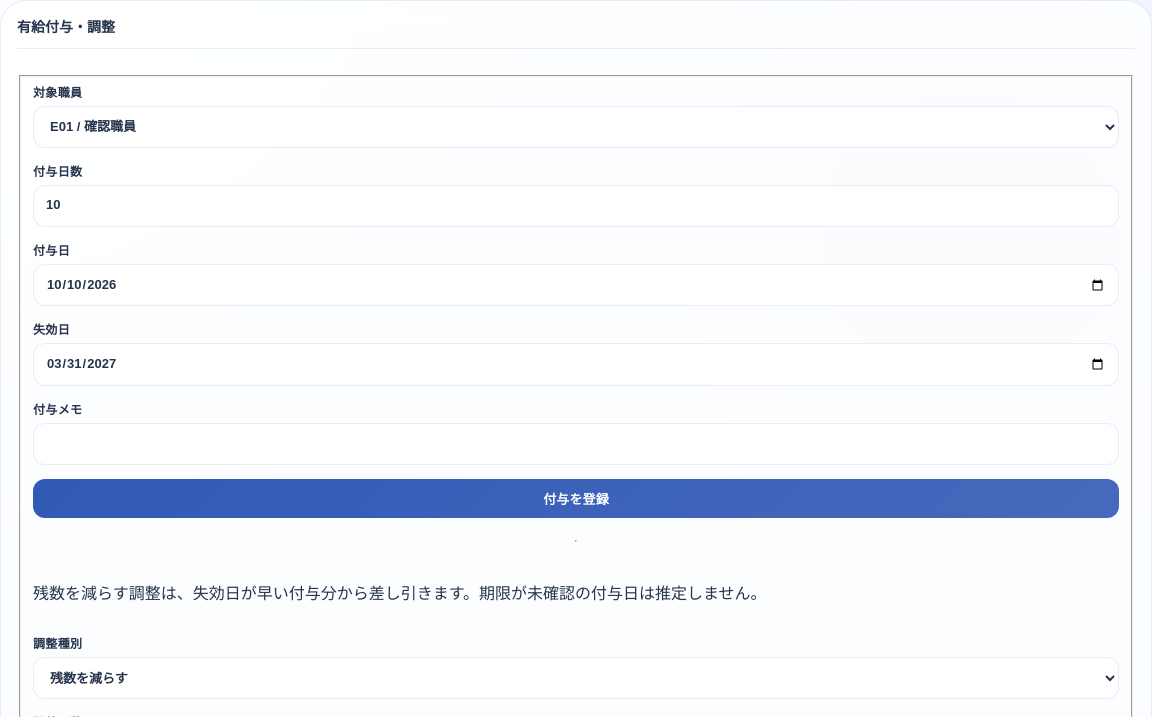
Test case: admin leave forms › confirms the employee and amount before granting and places returned field errors beside inputs
Click the button "付与を登録". click: (576, 499)
box: [33, 479, 1119, 518]
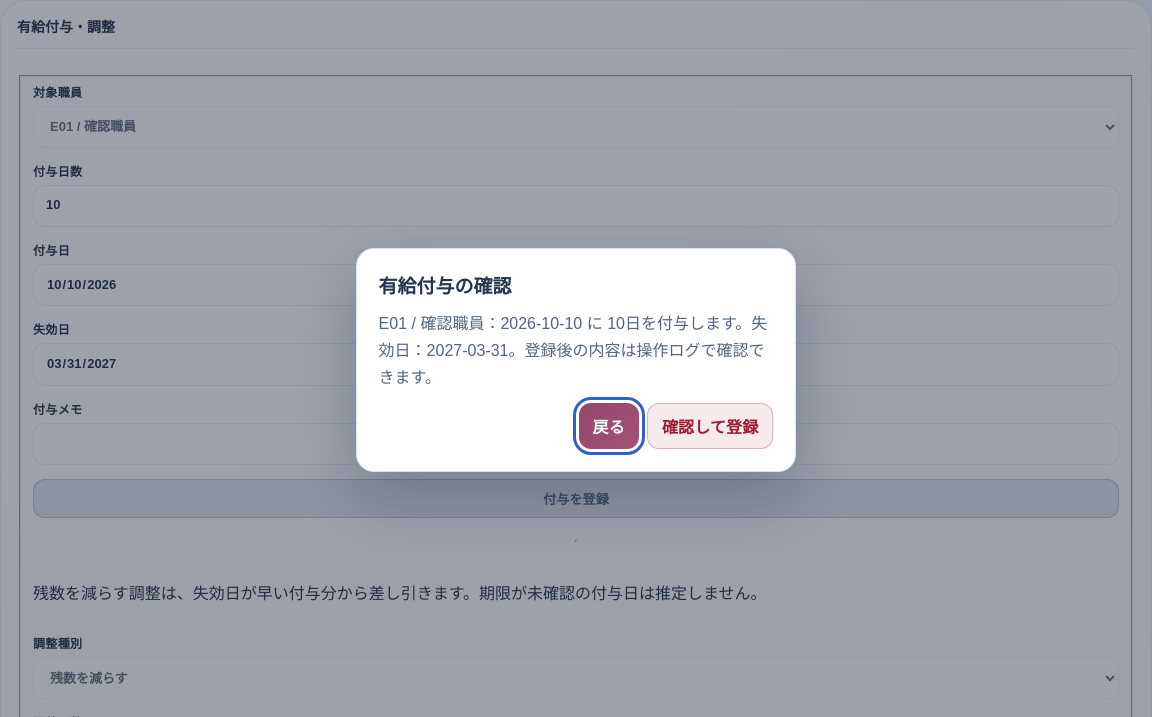
expect the dialog shows "E01 / 確認職員": met, box [379, 315, 767, 386]
expect the dialog shows "10日": met, box [356, 248, 796, 472]
Click the button "確認して登録". click: (710, 426)
box: [647, 403, 773, 449]
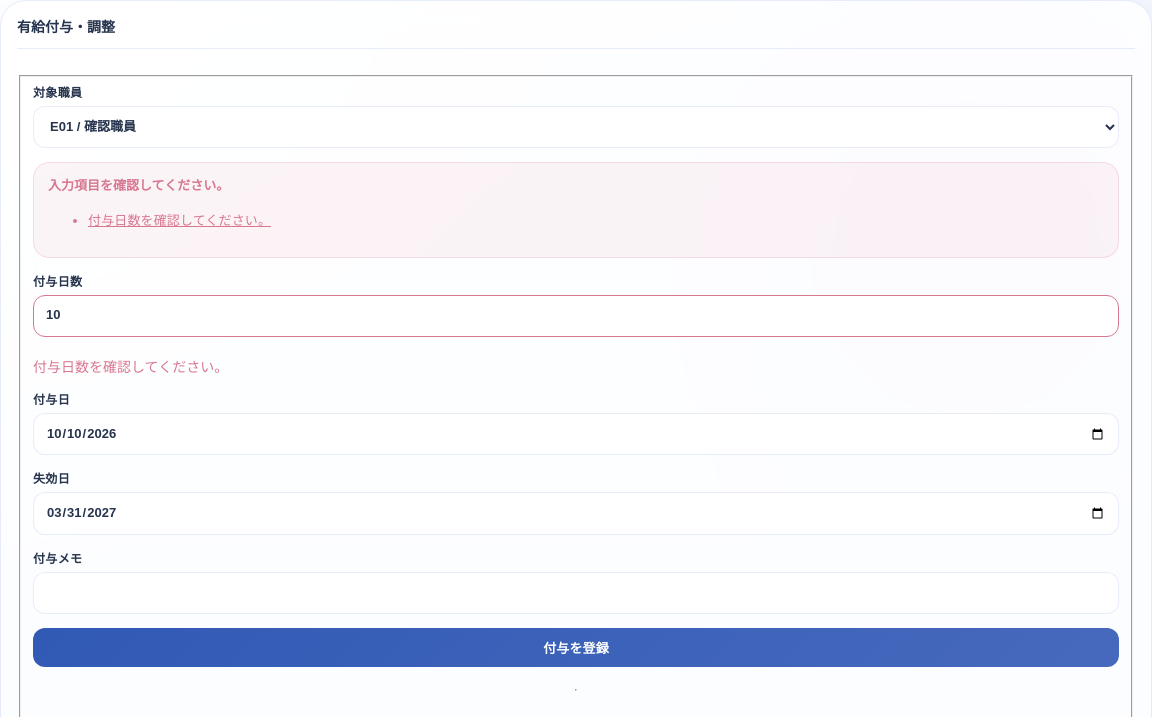
expect the button "付与日数を確認してください。" is shown: met, box [88, 210, 271, 232]
